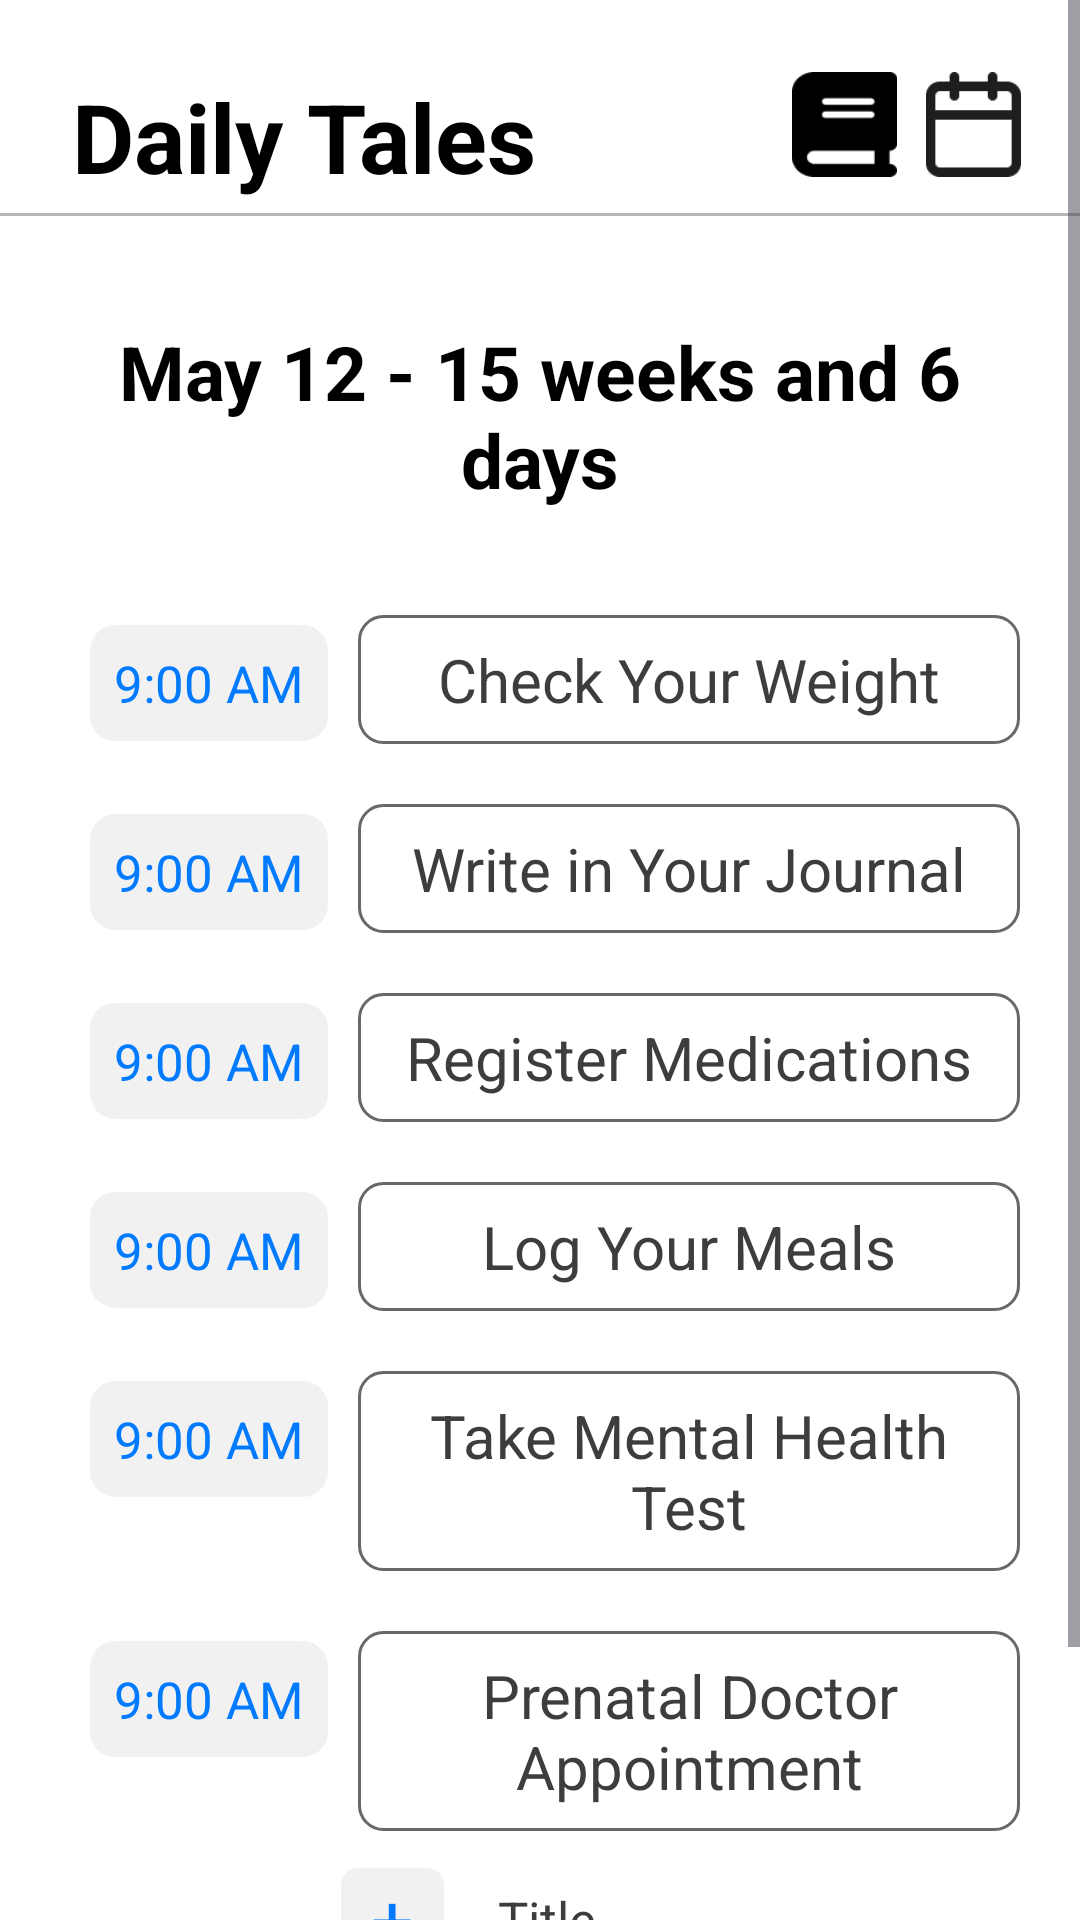

Icon click points for this 1080x1920 phone screenshot, format (x=x, y=y):
date: (x=973, y=124)
notes: (x=844, y=124)
